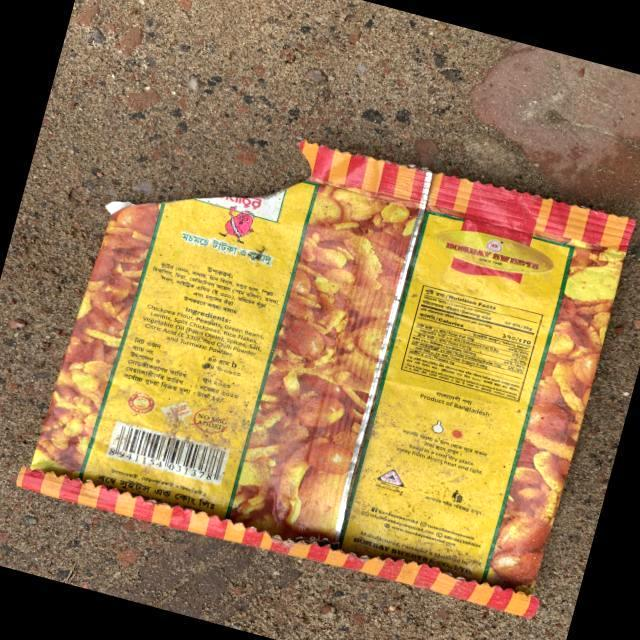packet: (105, 188, 558, 555)
